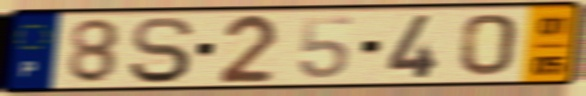0: (456, 11, 521, 79)
2: (218, 11, 281, 86)
4: (385, 11, 444, 82)
5: (297, 14, 356, 81)
8: (66, 16, 124, 86)
S: (125, 14, 198, 86)
